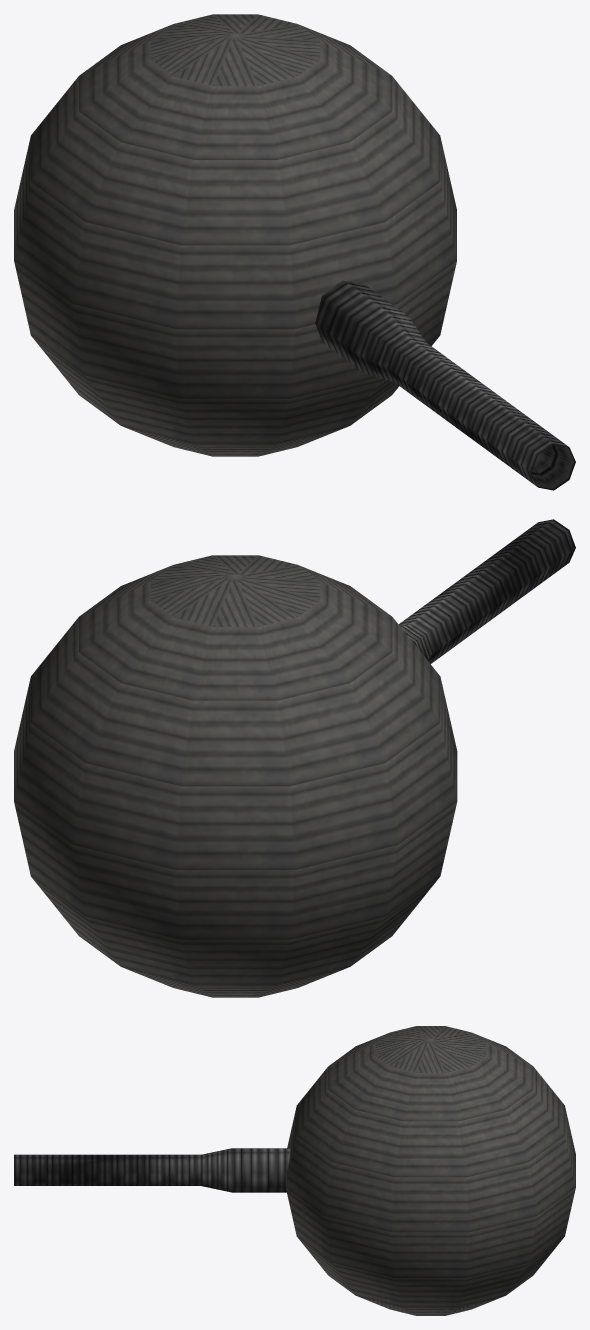
File: Light-PDBTurret.fbx
3 renders of one model, top to bottom at view 1: azimuth 30°, elevation 25°; view 2: azimuth 150°, elevation 25°; view 3: azimuth 270°, elevation 25°, orthographic. The views are drawn at different scales.
Visible parts, largest first — view 1: Light-PDBTurret; view 2: Light-PDBTurret; view 3: Light-PDBTurret.
Boxes of the visible parts, left/top/right/bottom form: Light-PDBTurret: left=14, top=14, right=575, bottom=490; Light-PDBTurret: left=14, top=519, right=575, bottom=997; Light-PDBTurret: left=14, top=1026, right=575, bottom=1315.
Size of the model in its own units: 46.36 by 46.31 by 89.76.
